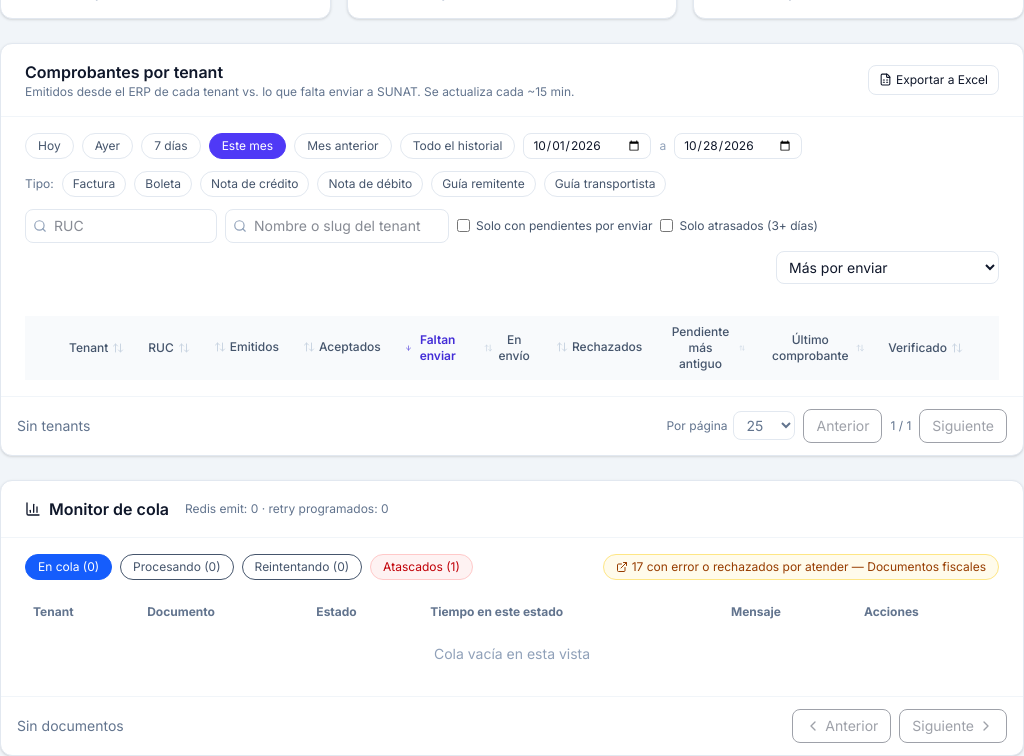
Scenario: OperacionesFiscalesPage — Fase 4 › Matriz F: permanent no presenta "Reprocesar"
(page scrolled)
Check: the text "Monitor de cola" is shown, box [49, 496, 169, 520]
Click the button "Atascados (1)": (422, 566) [370, 554, 473, 580]
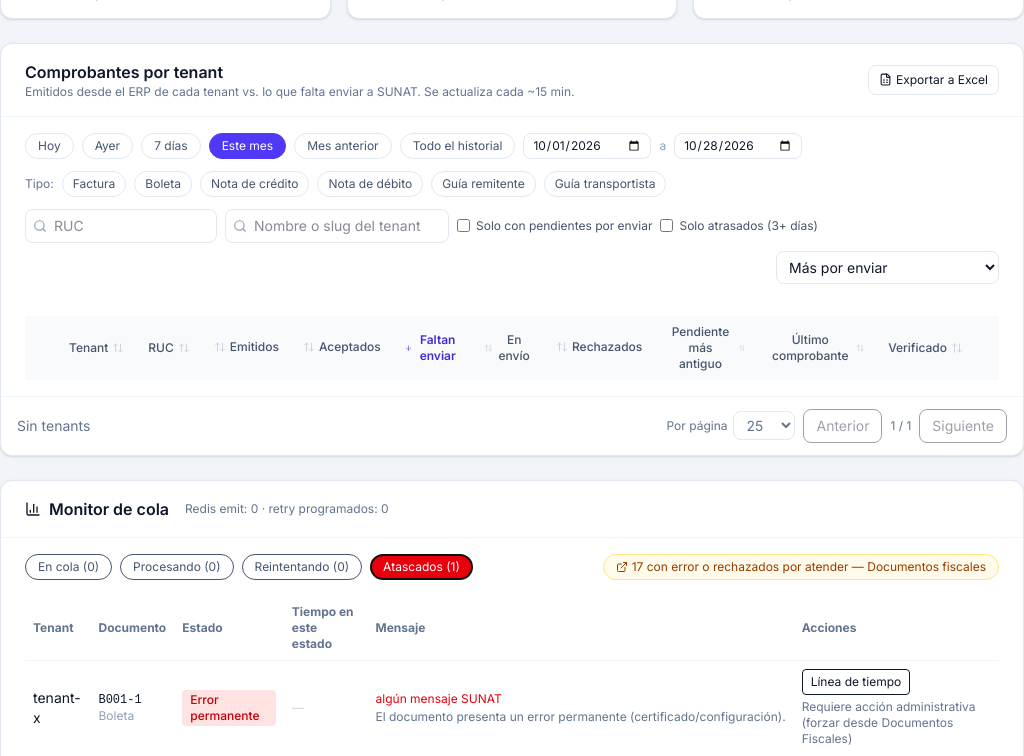
Check: the text "tenant-x" is shown, box [25, 660, 90, 754]
Check: the text "Error permanente" is shown, box [182, 690, 276, 726]
